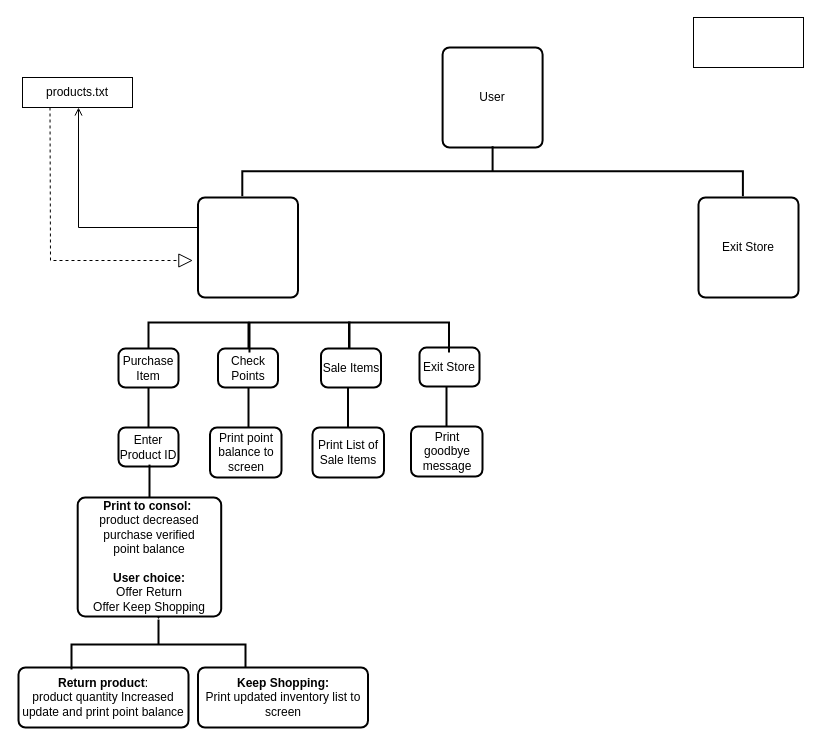
Some shapes in this 821 by 746 pixel diagram are drawn without their labels. The shapes that lost their labels are listed below. From the top down, each one's centre as x and y in pixels, then its label:
At point (748, 42): "Flowchart".
At point (247, 247): "View Inventory (sorted list)".
